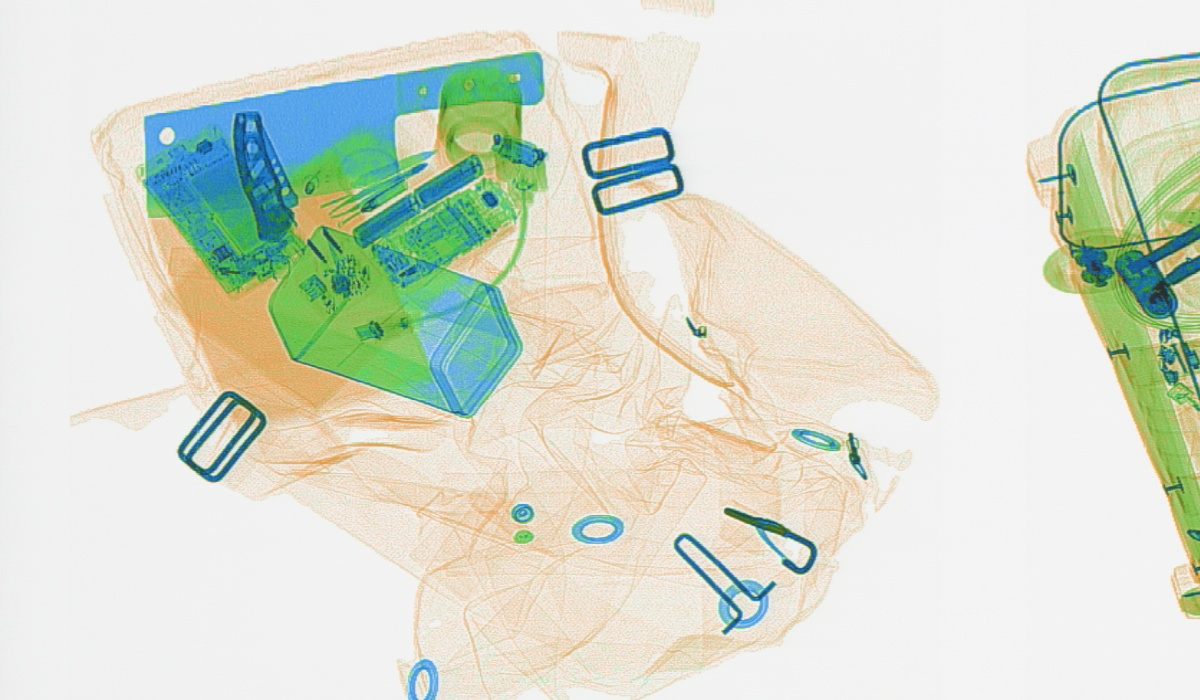knife: (141, 49, 546, 218), (233, 107, 302, 243)
